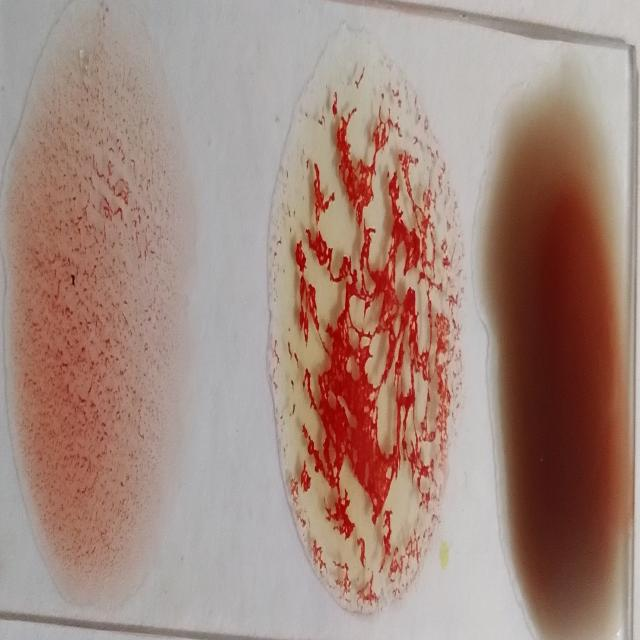B: (273, 48, 458, 615)
D: (10, 26, 182, 598)
